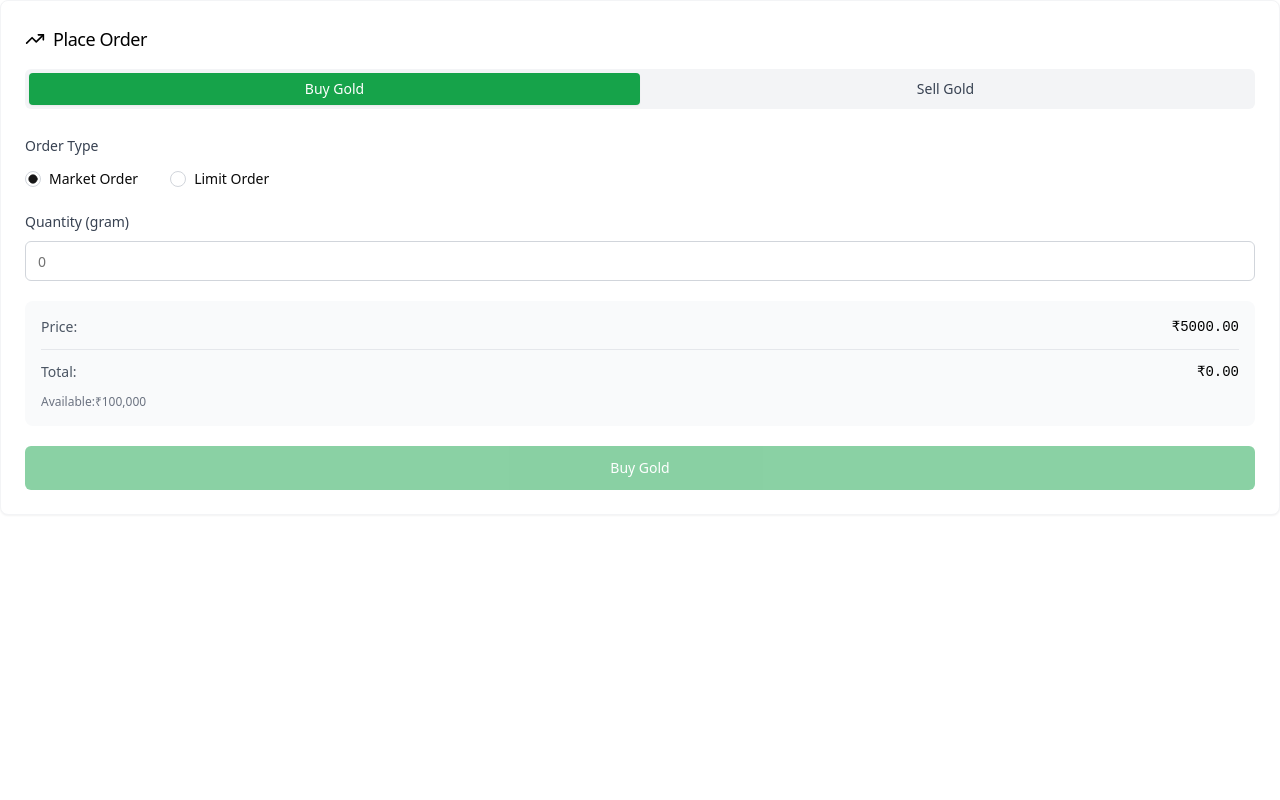
Scenario: TradingForm › validates price is positive for limit orders
Step 1. Click the radio button named "limit order" next to "Limit Order" → [178, 179], box x1=170 y1=171 x2=186 y2=187
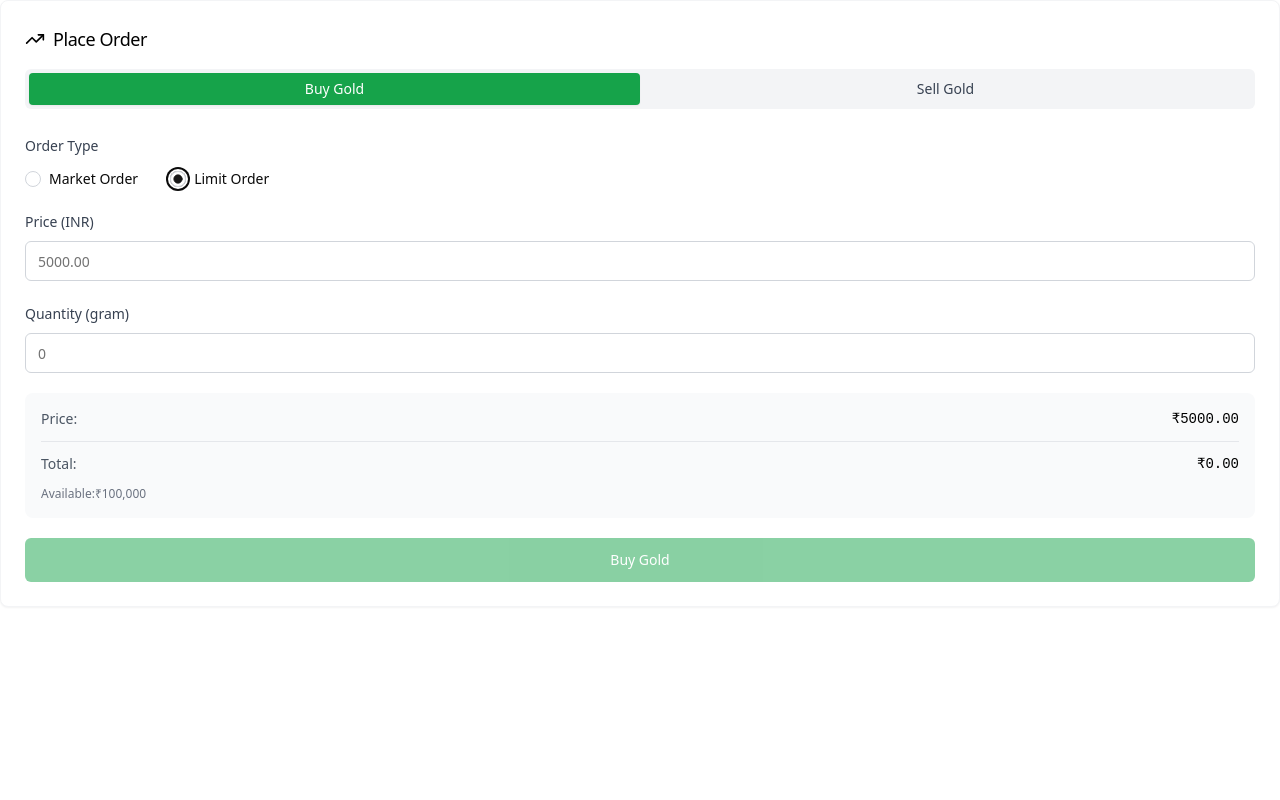
Now the number field labelled "Price (INR)" is shown, box x1=25 y1=241 x2=1255 y2=281
